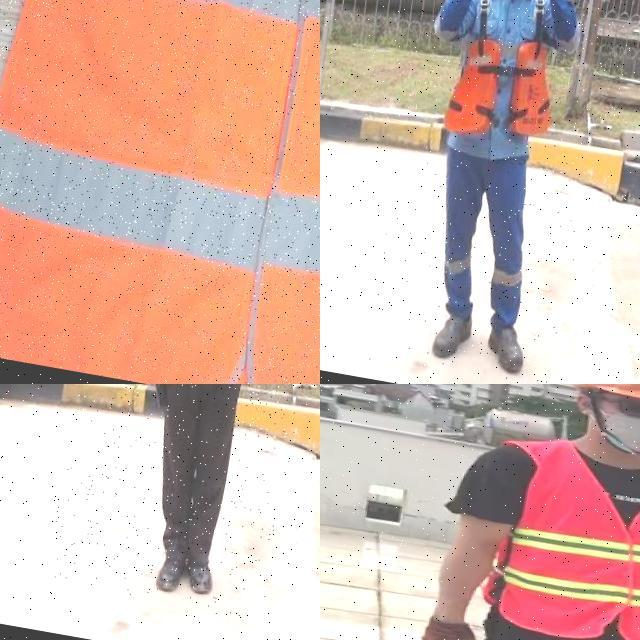boots: (478, 314, 538, 378), (432, 306, 476, 364), (150, 552, 190, 600), (183, 556, 222, 600)
vest: (0, 0, 320, 384), (476, 432, 640, 640), (444, 34, 562, 146)
